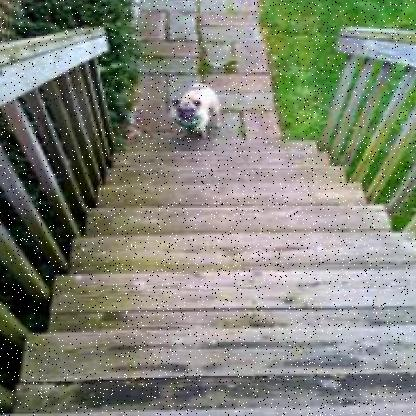stair_up: (113, 149, 387, 299)
